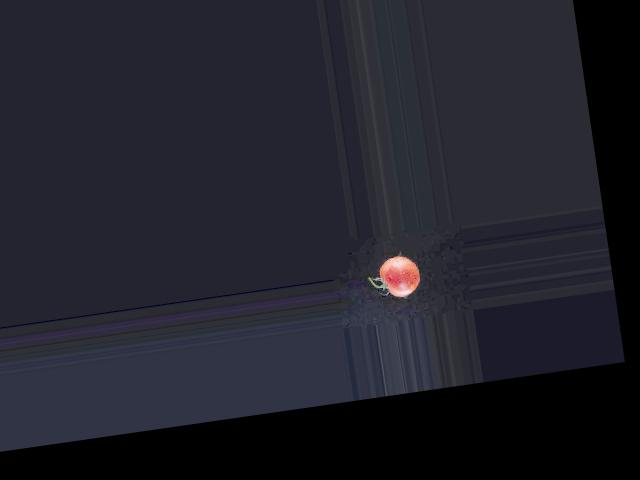tomato: (377, 253, 422, 298)
